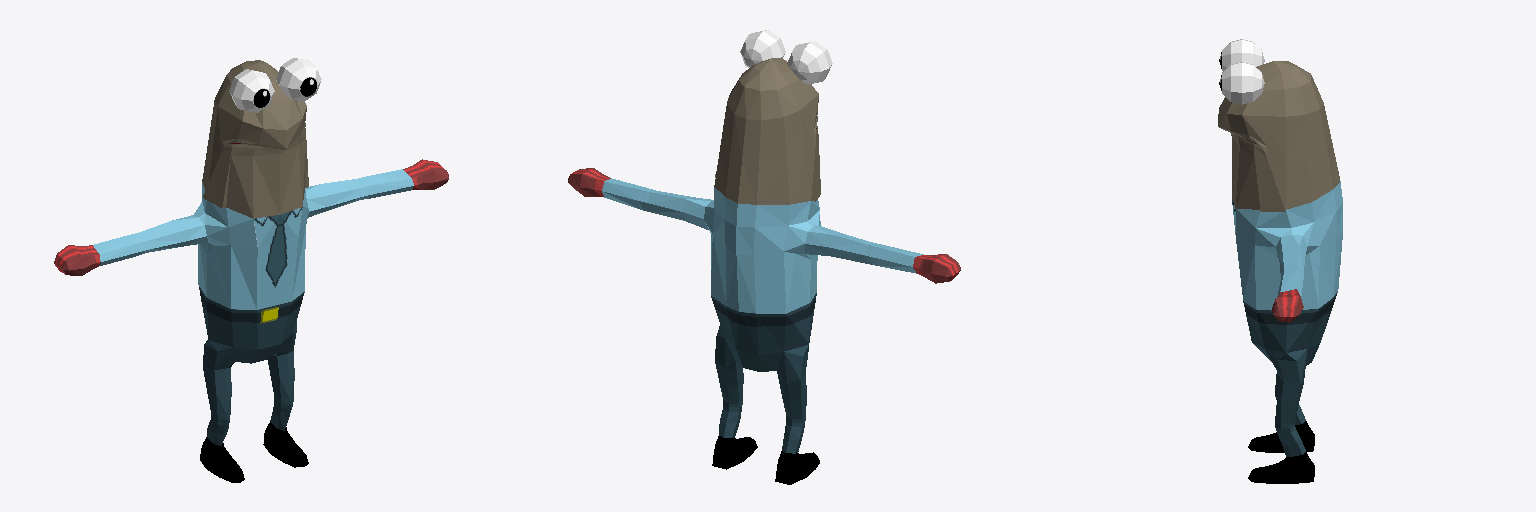
3 views of the same model, side by side, from view 1: azimuth 30°, elevation 25°; view 2: azimuth 150°, elevation 25°; view 3: azimuth 270°, elevation 25° (orthographic).
Visible parts, largest first — view 1: Object001; view 2: Object001; view 3: Object001.
Boxes of the visible parts, <box> form: Object001: <box>54,58,448,482</box>; Object001: <box>568,30,960,484</box>; Object001: <box>1218,39,1342,483</box>.
Size of the model in its own units: 0.4169 by 0.4269 by 0.118.
2 materials, 2 textured.